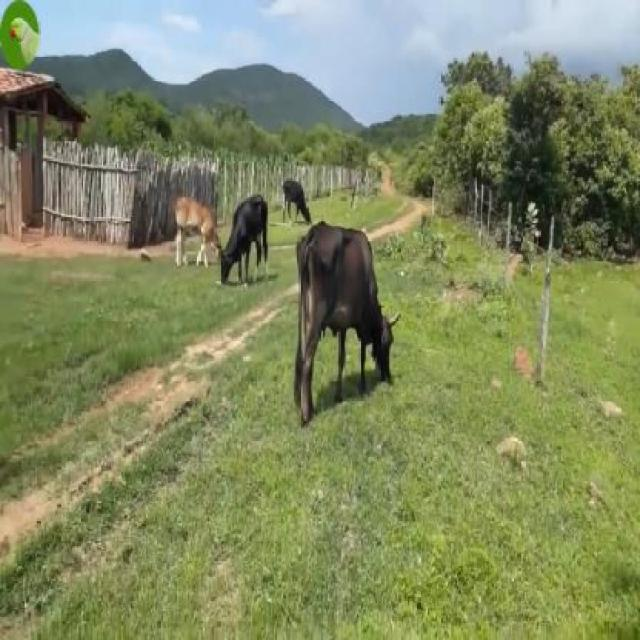Cow: (295, 220, 400, 415)
